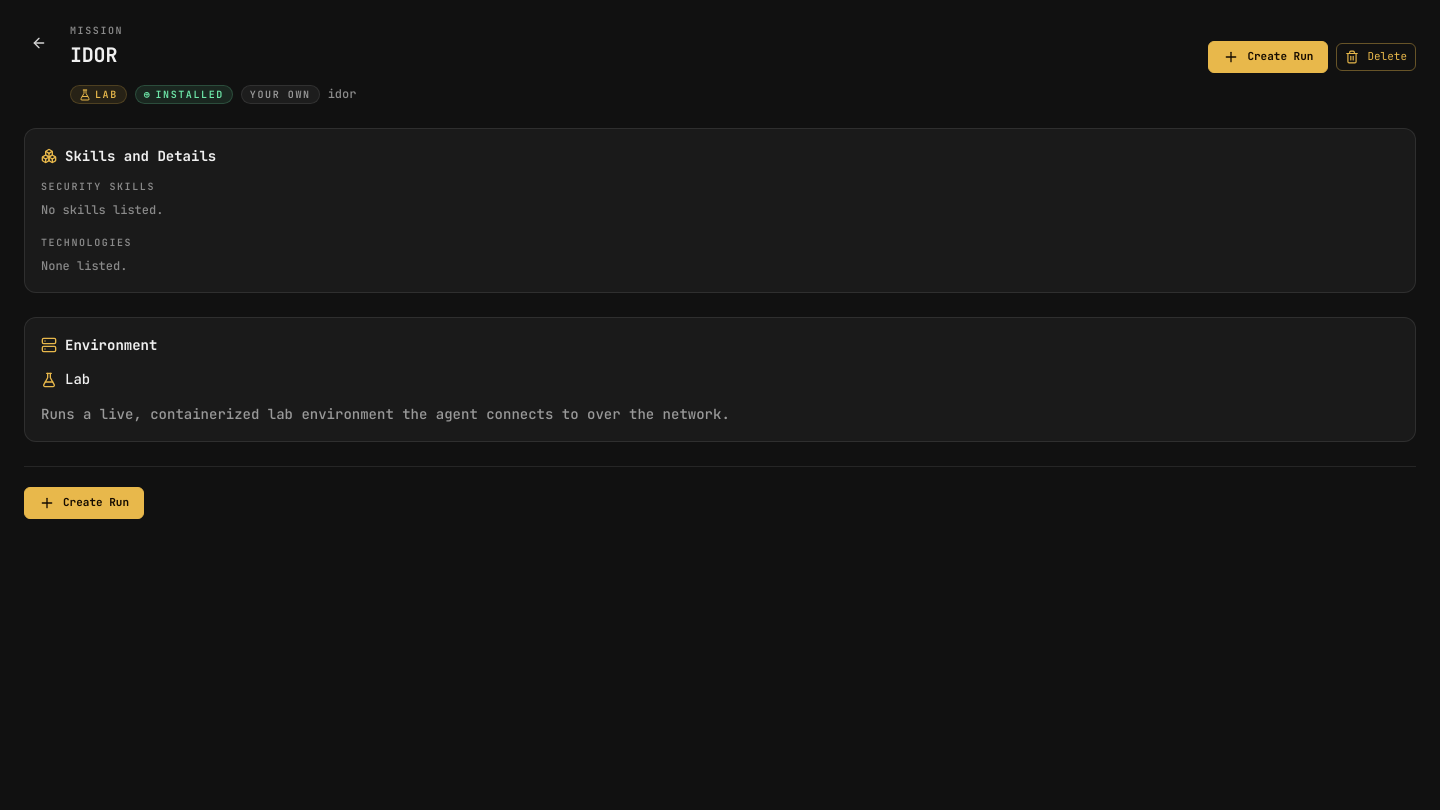
MissionDetail delete › ticked, purges and reports a kept image
This screenshot has width=1440, height=810.
Expected: the heading "IDOR" is shown, [70,41,117,69]
Step 1. Click the button "Delete" → (1376, 57), box [1336,43,1416,71]
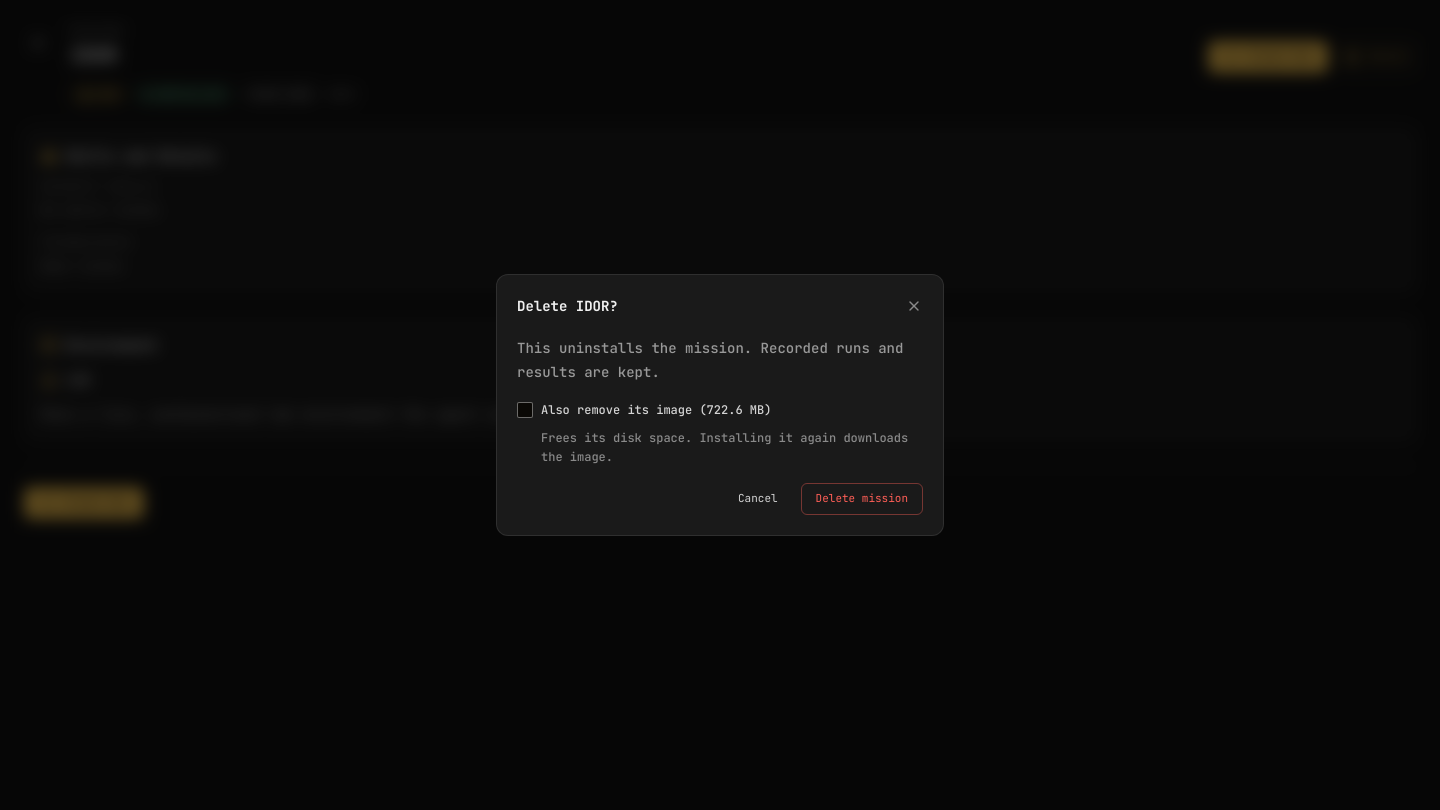
Step 2. Click the checkbox labelled "Also remove its image (722.6 MB)" → (644, 410), box [517,401,771,420]
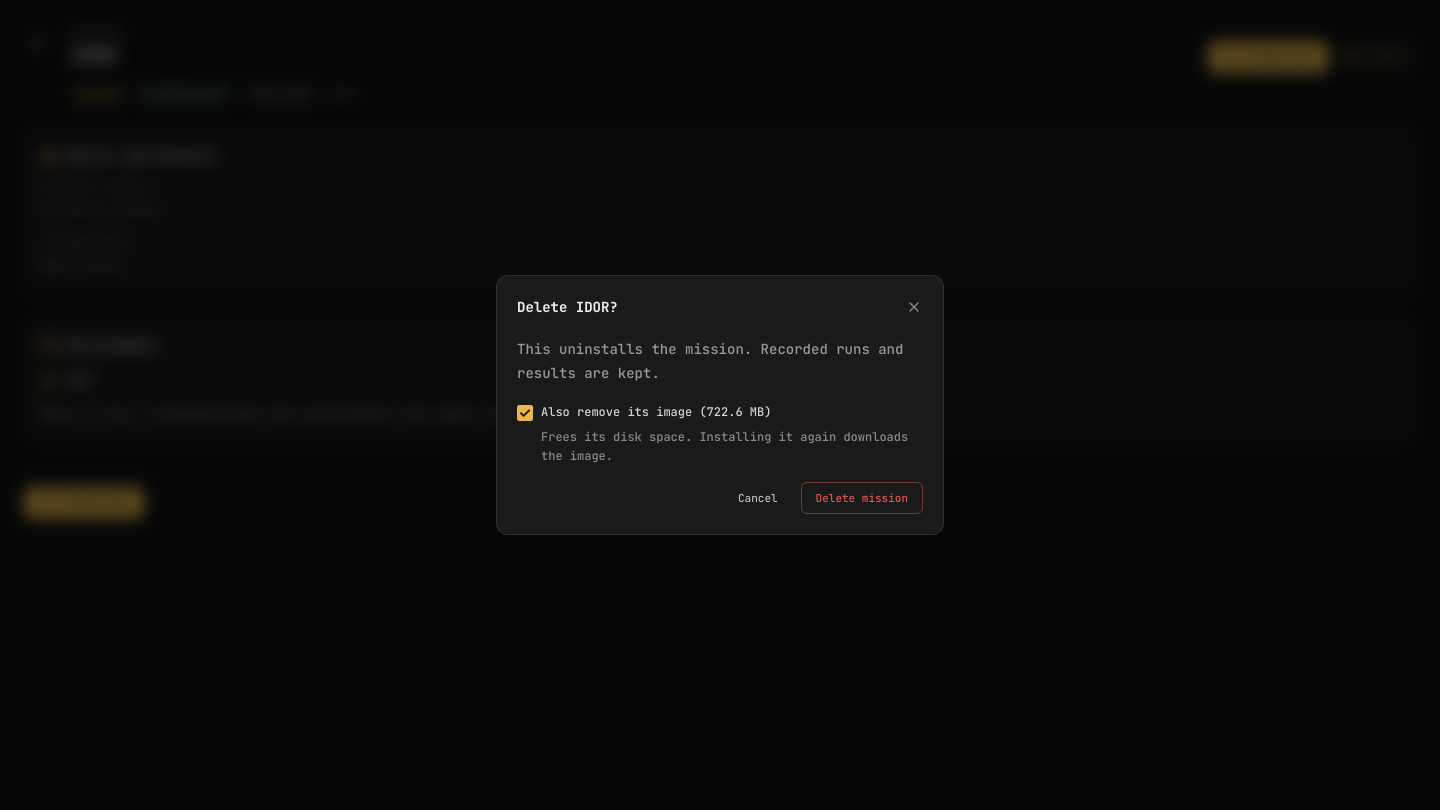
Step 3. Click the button "Delete mission" → (862, 498), box [801,482,923,514]
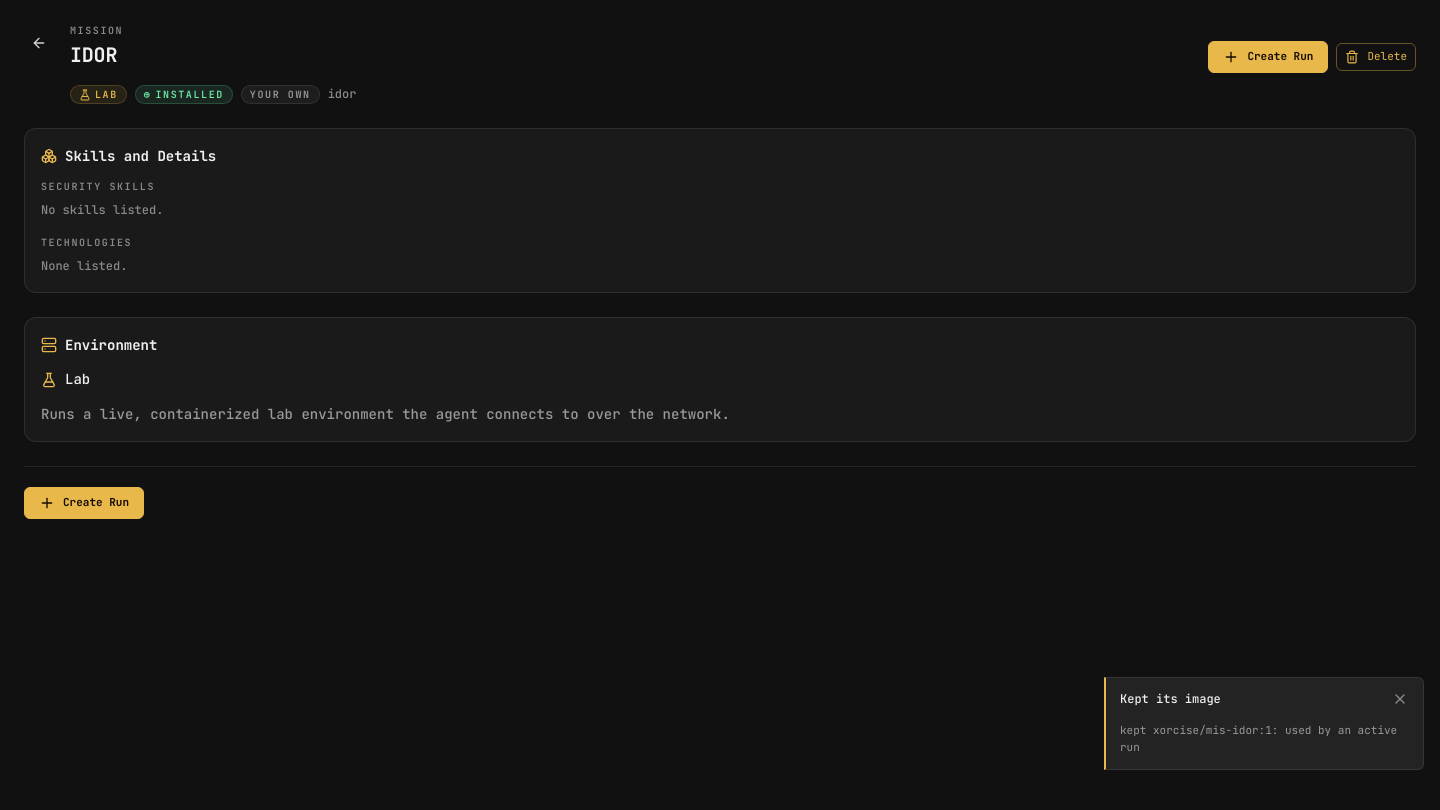
Expected: the text "Kept its image" is shown, [1120,690,1221,709]
Expected: the text "kept xorcise/mis-idor:1: used by an active run" is shown, [1120,722,1409,757]
